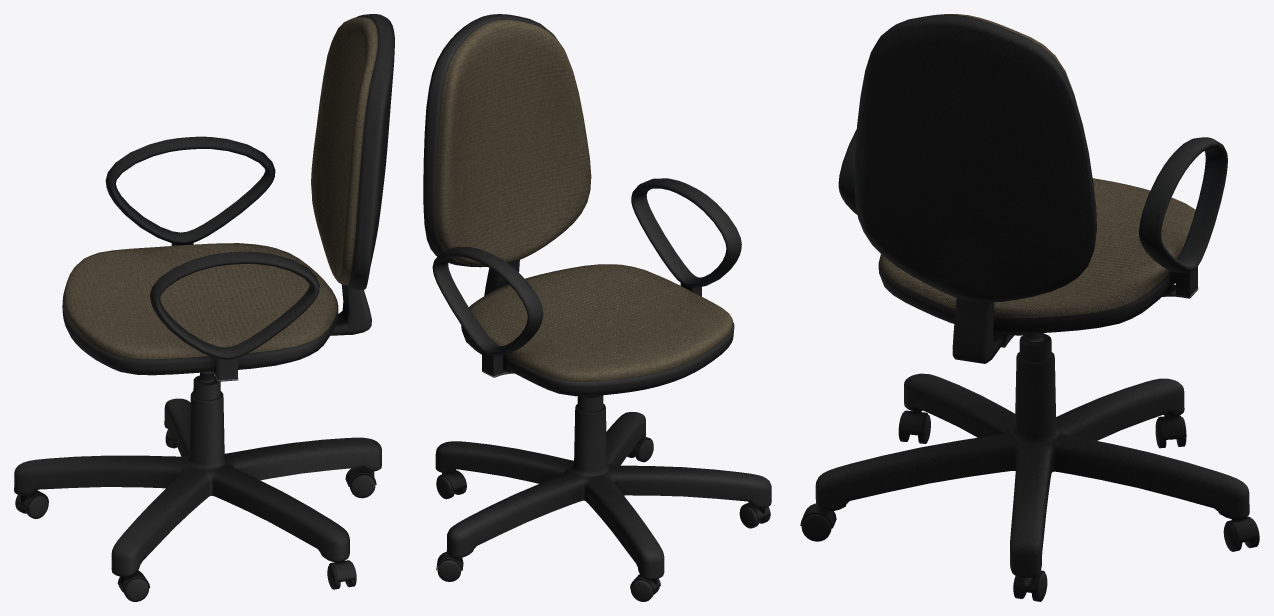
Rendered from silla2.fbx.
3 renders of one model, left to right at view 1: azimuth 30°, elevation 25°; view 2: azimuth 150°, elevation 25°; view 3: azimuth 270°, elevation 25°, orthographic. The views are drawn at different scales.
Parts seen in each view (by area): view 1: prim0.002, prim0.004, prim0.005, prim0.003, prim0.001; view 2: prim0.002, prim0.004, prim0.005, prim0.003, prim0.001; view 3: prim0.003, prim0.004, prim0.002, prim0.005, prim0.001.
Boxes of the visible parts, <box> form: prim0.002: <box>64,17,377,359</box>; prim0.004: <box>14,375,381,576</box>; prim0.005: <box>105,136,371,379</box>; prim0.003: <box>62,14,394,375</box>; prim0.001: <box>15,371,376,601</box>; prim0.002: <box>436,19,733,381</box>; prim0.004: <box>435,395,771,579</box>; prim0.005: <box>432,178,741,375</box>; prim0.003: <box>423,14,734,396</box>; prim0.001: <box>436,367,770,601</box>; prim0.003: <box>854,14,1175,333</box>; prim0.004: <box>815,333,1249,577</box>; prim0.002: <box>879,14,1195,318</box>; prim0.005: <box>838,129,1227,363</box>; prim0.001: <box>800,285,1259,601</box>.
Size of the model in its own units: 70.46 by 107 by 77.05.
Materials: 6 (6 with a texture image).
